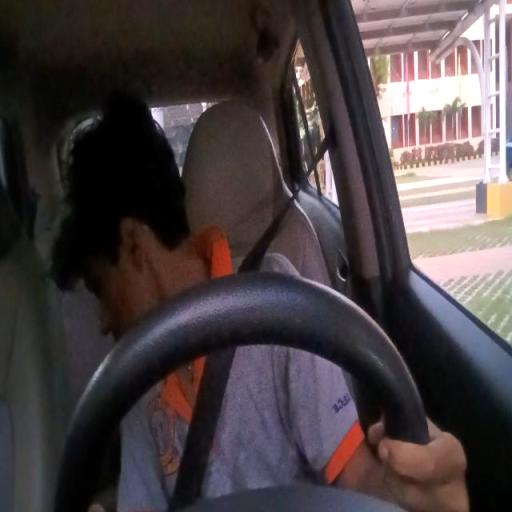Reaching_behind: (44, 99, 402, 482)
